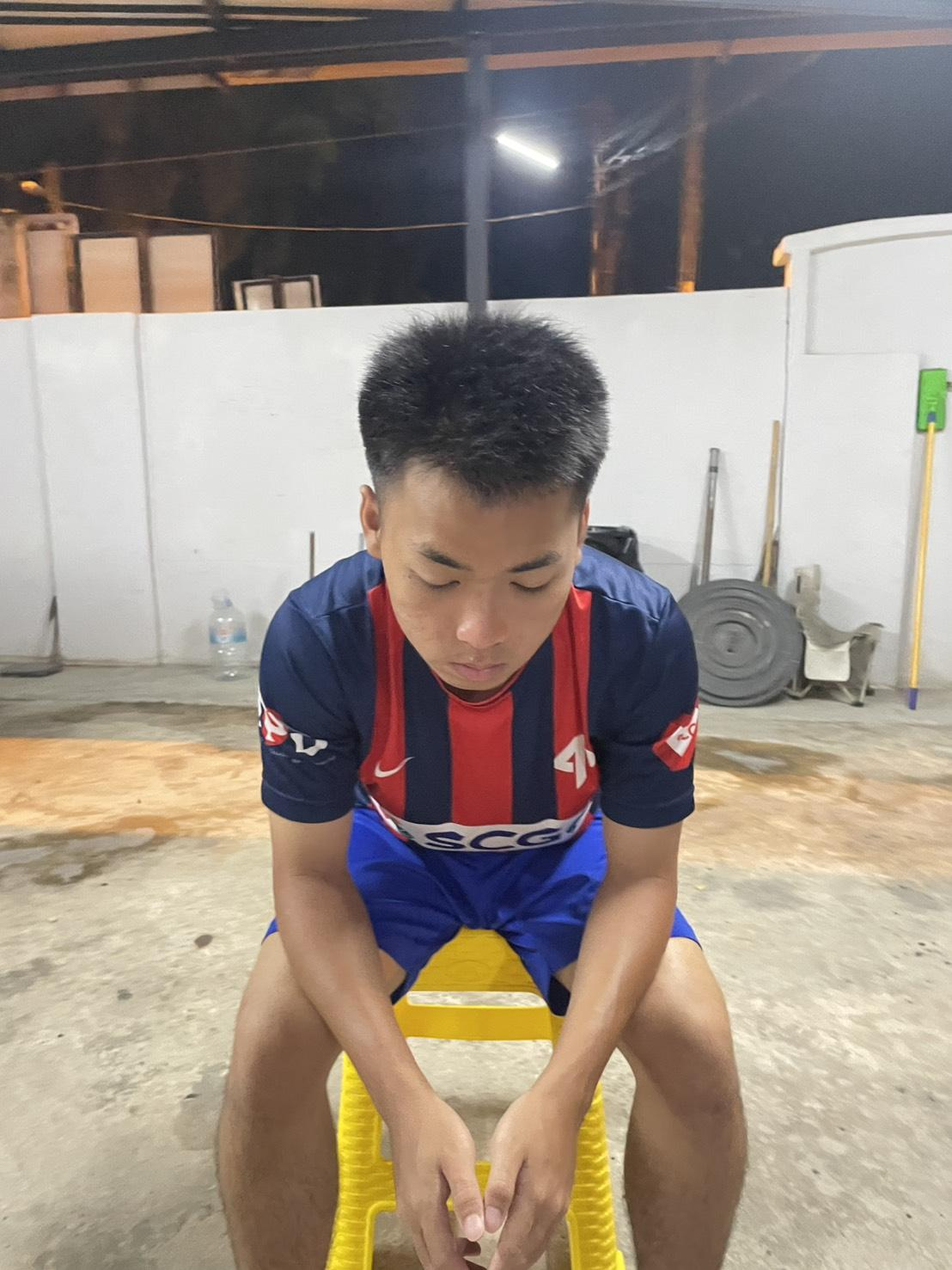BadPosture: (258, 315, 699, 869)
